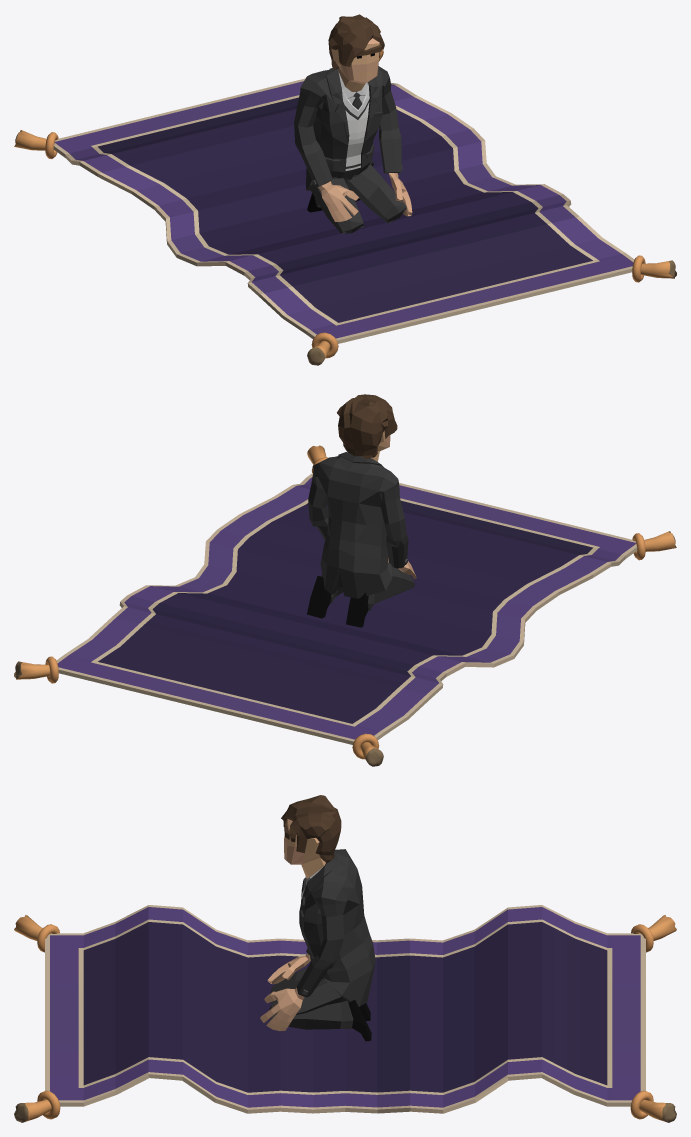
File: magic_carpet.glb
3 renders of one model, top to bottom at view 1: azimuth 30°, elevation 25°; view 2: azimuth 150°, elevation 25°; view 3: azimuth 270°, elevation 25°, orthographic. The views are drawn at different scales.
Parts seen in each view (by area): view 1: magic-carpet, Character_1_M; view 2: magic-carpet, Character_1_M; view 3: magic-carpet, Character_1_M.
Part boxes in pixels (box(x1,y1,x2,y2)): magic-carpet: box(14, 49, 676, 365); Character_1_M: box(294, 14, 412, 233); magic-carpet: box(14, 445, 676, 766); Character_1_M: box(307, 394, 416, 627); magic-carpet: box(14, 905, 676, 1122); Character_1_M: box(260, 795, 375, 1041).
Bounding box in the file's own units: 2.31 × 1.28 × 3.31.
1 material, 1 textured.
